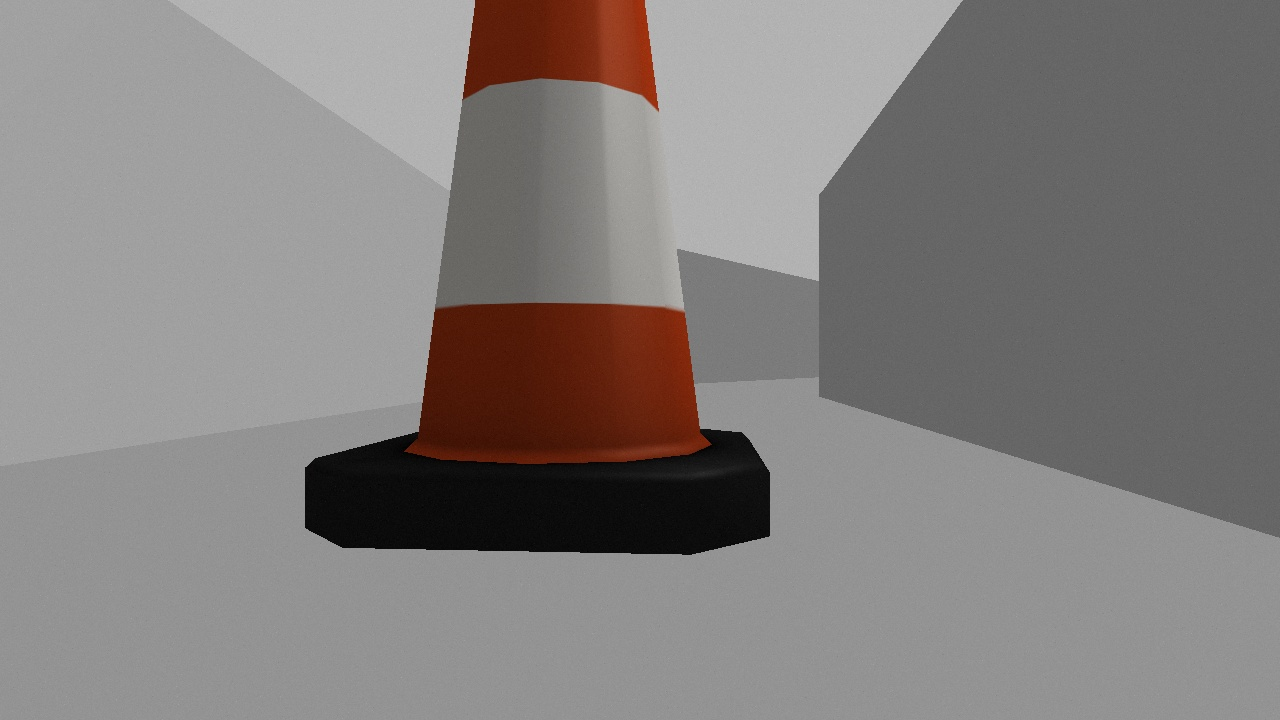barricade: (304, 1, 774, 556)
